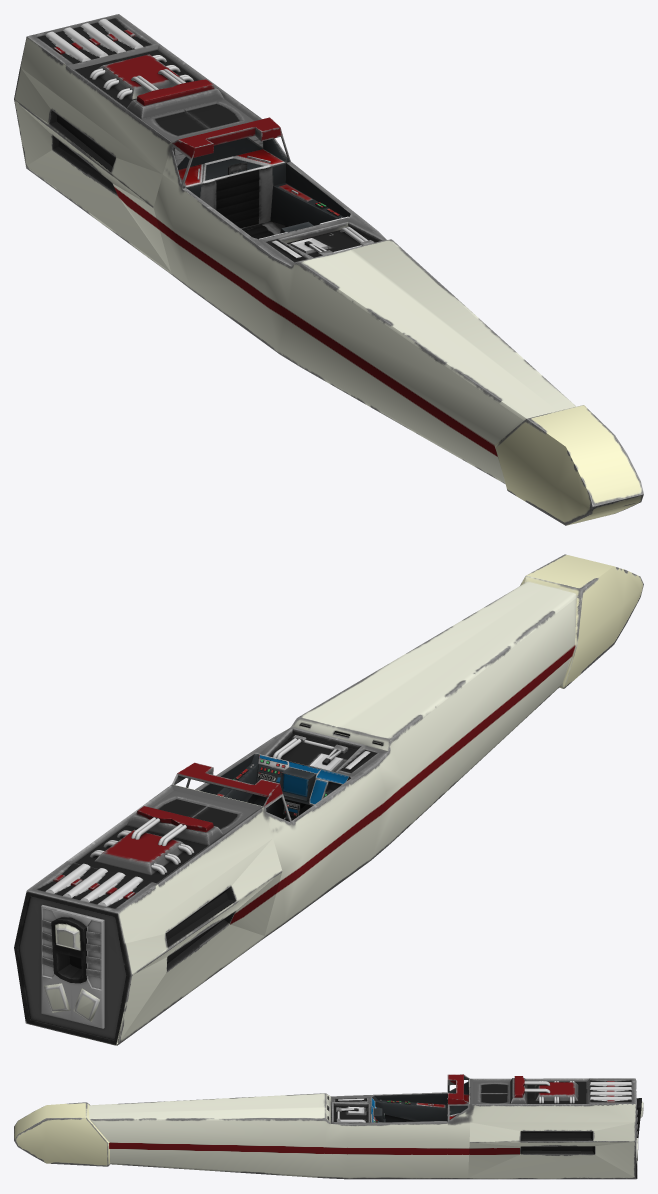
Rendered from Body.obj.
3 views of the same model, one above another, from view 1: azimuth 30°, elevation 25°; view 2: azimuth 150°, elevation 25°; view 3: azimuth 270°, elevation 25° (orthographic). The views are drawn at different scales.
Parts seen in each view (by area): view 1: Box001; view 2: Box001; view 3: Box001.
Part boxes in pixels (box(x1,y1,x2,y2)): Box001: box(14, 14, 643, 525); Box001: box(14, 554, 643, 1045); Box001: box(14, 1074, 643, 1179).
Size of the model in its own units: 115 by 123 by 861.
